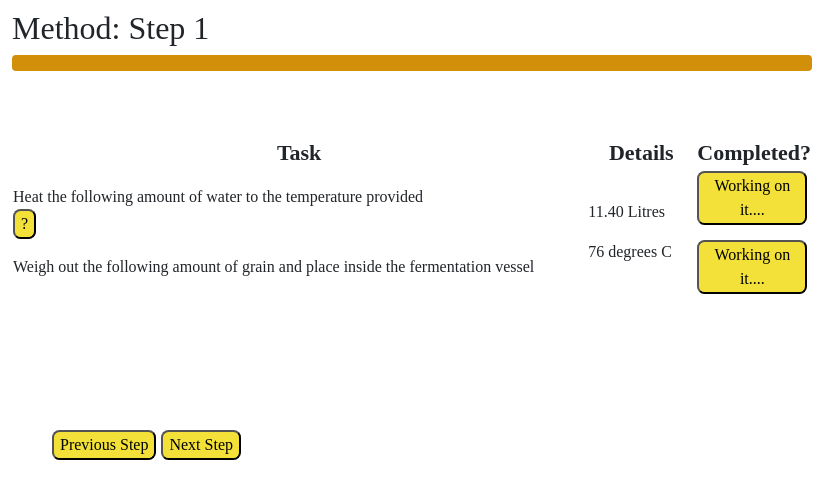
Test: should display the previous step when the Previous Step button is clicked
Click the button "Next Step" at coordinates (201, 445), box [162,430,241,460]
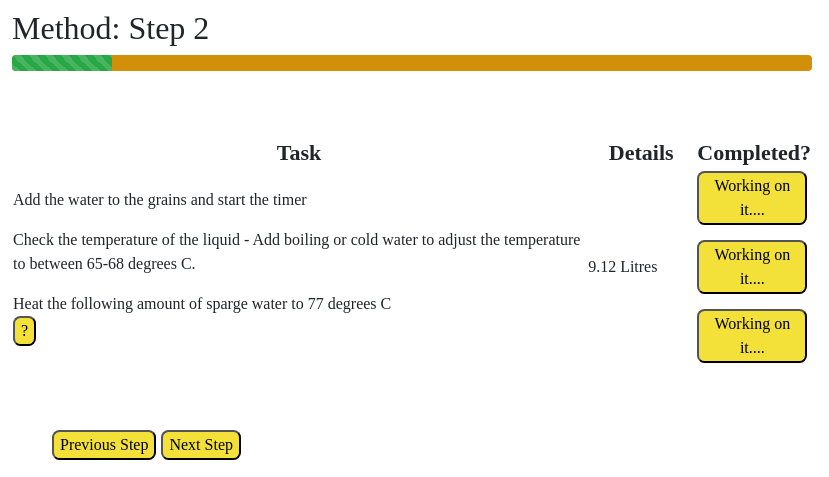
Click the button "Previous Step" at coordinates (104, 445), box [52,430,156,460]
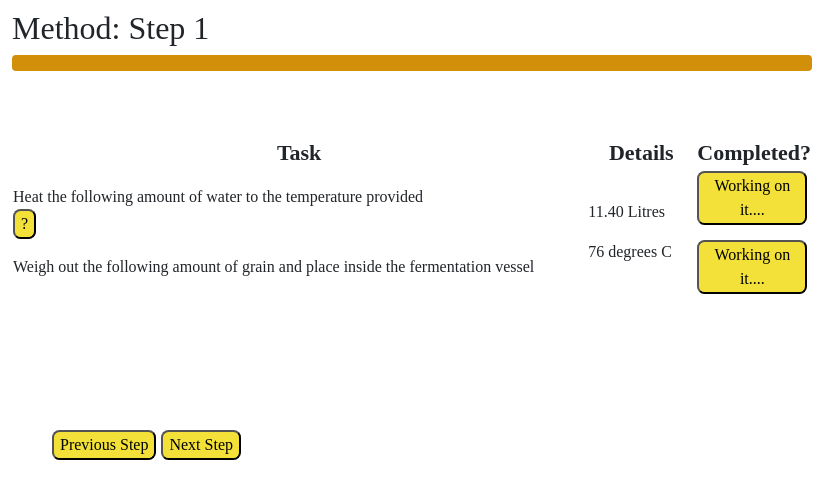
expect the text "Heat the following amount of water to the temperature provided" is shown: met, box [13,188,423,205]
